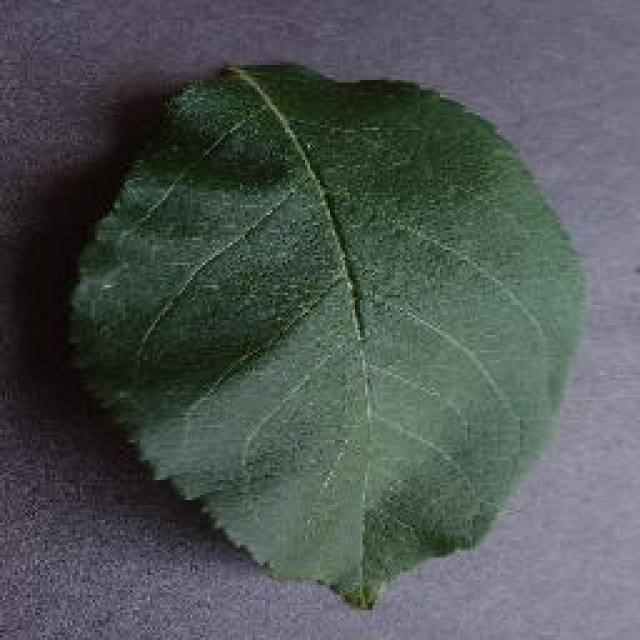apple healthy: (62, 58, 590, 610)
